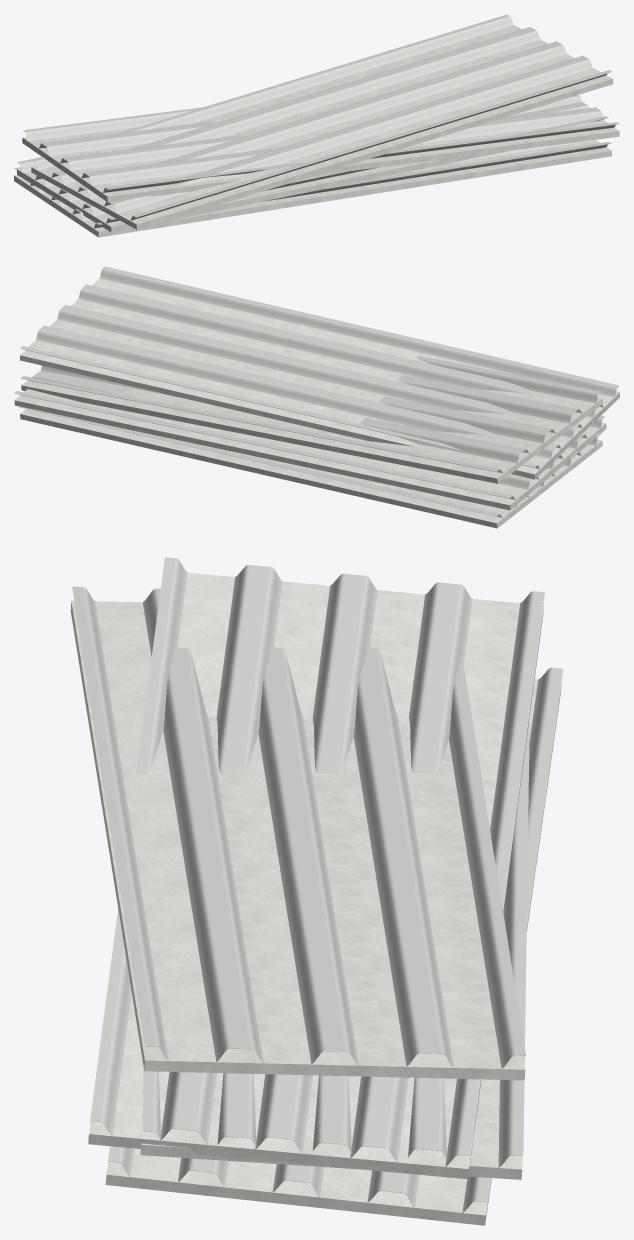
Rendered from COB-MTL-003_anim.glb.
The picture shows the model from 3 angles, top to bottom: view 1: azimuth 30°, elevation 25°; view 2: azimuth 150°, elevation 25°; view 3: azimuth 270°, elevation 25°; orthographic projection. The views are drawn at different scales.
Parts seen in each view (by area): view 1: COB-MTL-003_anim3, COB-MTL-003_anim2, COB-MTL-003_anim0, COB-MTL-003_anim1; view 2: COB-MTL-003_anim3, COB-MTL-003_anim2, COB-MTL-003_anim1, COB-MTL-003_anim0; view 3: COB-MTL-003_anim3, COB-MTL-003_anim2, COB-MTL-003_anim0, COB-MTL-003_anim1.
Boxes of the visible parts, left/top/right/bottom form: COB-MTL-003_anim3: left=31, top=14, right=613, bottom=229; COB-MTL-003_anim2: left=22, top=95, right=619, bottom=202; COB-MTL-003_anim0: left=14, top=140, right=611, bottom=237; COB-MTL-003_anim1: left=17, top=102, right=608, bottom=232; COB-MTL-003_anim3: left=20, top=266, right=619, bottom=479; COB-MTL-003_anim2: left=20, top=356, right=603, bottom=483; COB-MTL-003_anim1: left=14, top=370, right=606, bottom=510; COB-MTL-003_anim0: left=19, top=406, right=602, bottom=528; COB-MTL-003_anim3: left=70, top=586, right=525, bottom=1080; COB-MTL-003_anim2: left=88, top=557, right=544, bottom=1179; COB-MTL-003_anim0: left=105, top=667, right=563, bottom=1225; COB-MTL-003_anim1: left=140, top=718, right=529, bottom=1179.
Size of the model in its own units: 3.08 by 0.5244 by 1.29.
Materials: 2 (1 with a texture image).
